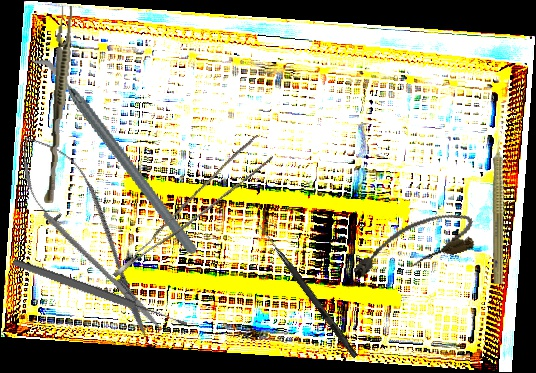Cannula: (344, 205, 481, 286)
Chopper: (30, 28, 198, 281)
Handpiece: (491, 131, 509, 284)
Hook Surgical: (255, 223, 360, 359)
Micro Scissor: (0, 120, 179, 349)
Surgical Spoon: (11, 256, 189, 331)
Tissue Forceps: (93, 134, 280, 278), (43, 5, 75, 204)
